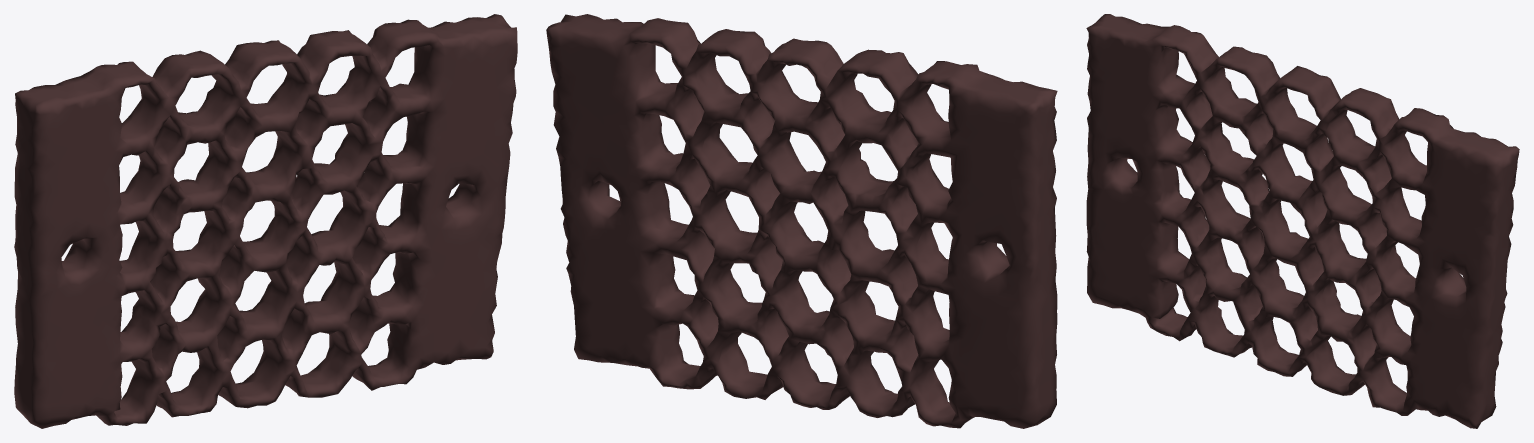
Rendered from fix_and_force_00000.obj.
3 views of the same model, side by side, from view 1: azimuth 30°, elevation 25°; view 2: azimuth 150°, elevation 25°; view 3: azimuth 330°, elevation 25° (orthographic). The views are drawn at different scales.
Parts seen in each view (by area): view 1: 3_OglModel; view 2: 3_OglModel; view 3: 3_OglModel.
Part boxes in pixels (box(x1,y1,x2,y2)): 3_OglModel: box(14, 14, 517, 428); 3_OglModel: box(546, 14, 1057, 428); 3_OglModel: box(1086, 14, 1519, 428).
Size of the model in its own units: 5.82 by 4.29 by 0.5086.
